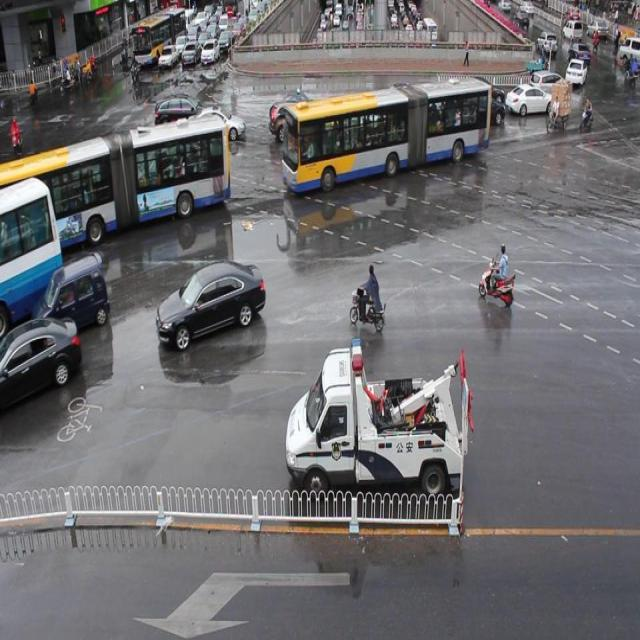bus: (285, 338, 464, 498)
car: (156, 257, 265, 350), (0, 177, 62, 329), (1, 314, 82, 416), (31, 253, 110, 332), (505, 81, 550, 117), (528, 72, 564, 102)
van: (1, 114, 229, 251), (284, 74, 489, 188)
